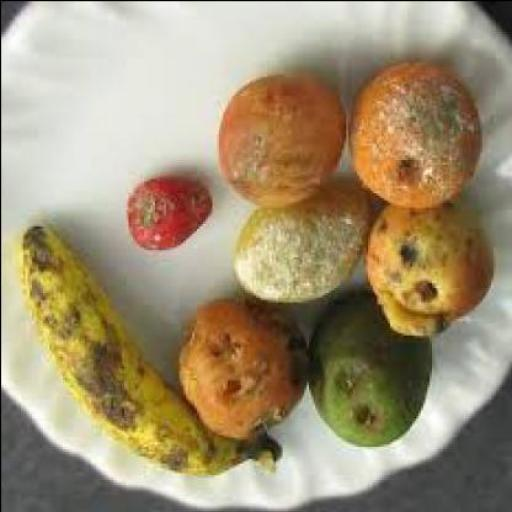biodegradable: (22, 223, 281, 479), (352, 61, 486, 211), (310, 294, 435, 448), (180, 298, 310, 444), (367, 196, 497, 339), (219, 73, 350, 211), (238, 192, 372, 308), (130, 180, 216, 254)
